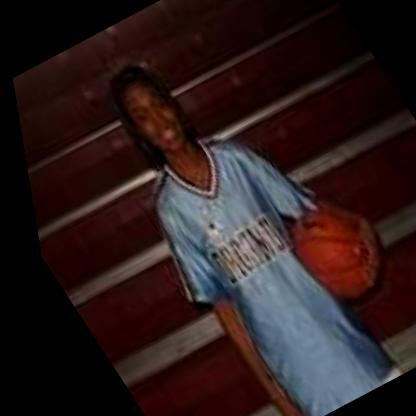basketball: (260, 189, 394, 314)
